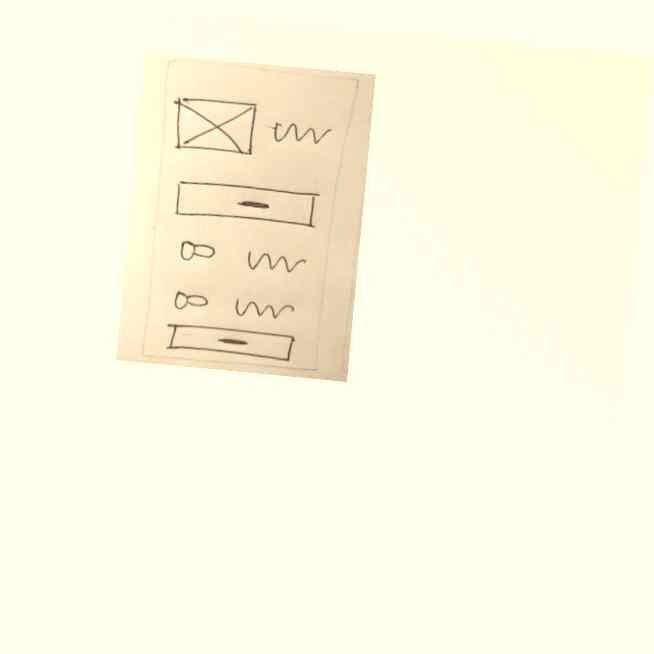button: (172, 175, 322, 234), (162, 320, 297, 364)
image: (167, 92, 264, 160)
switch: (172, 236, 227, 268), (167, 287, 215, 317)
text: (264, 116, 333, 151), (231, 292, 296, 328), (241, 247, 310, 280)
